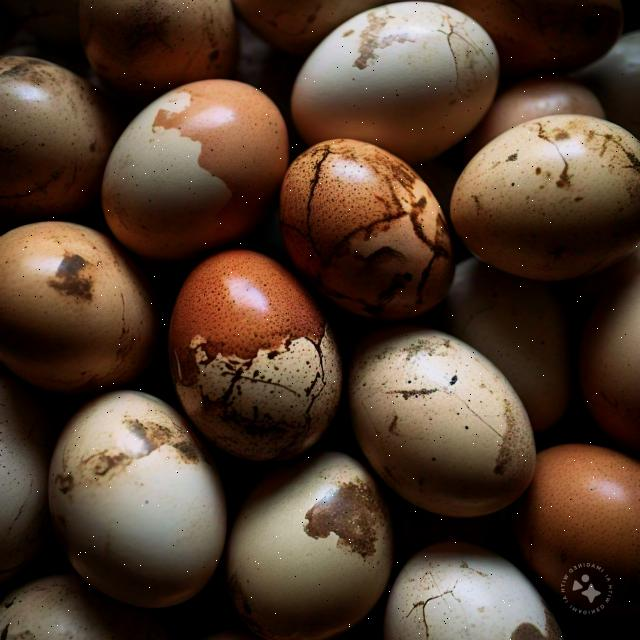Dirt Stained Egg: (162, 219, 354, 453), (358, 325, 548, 544), (283, 145, 454, 312)
